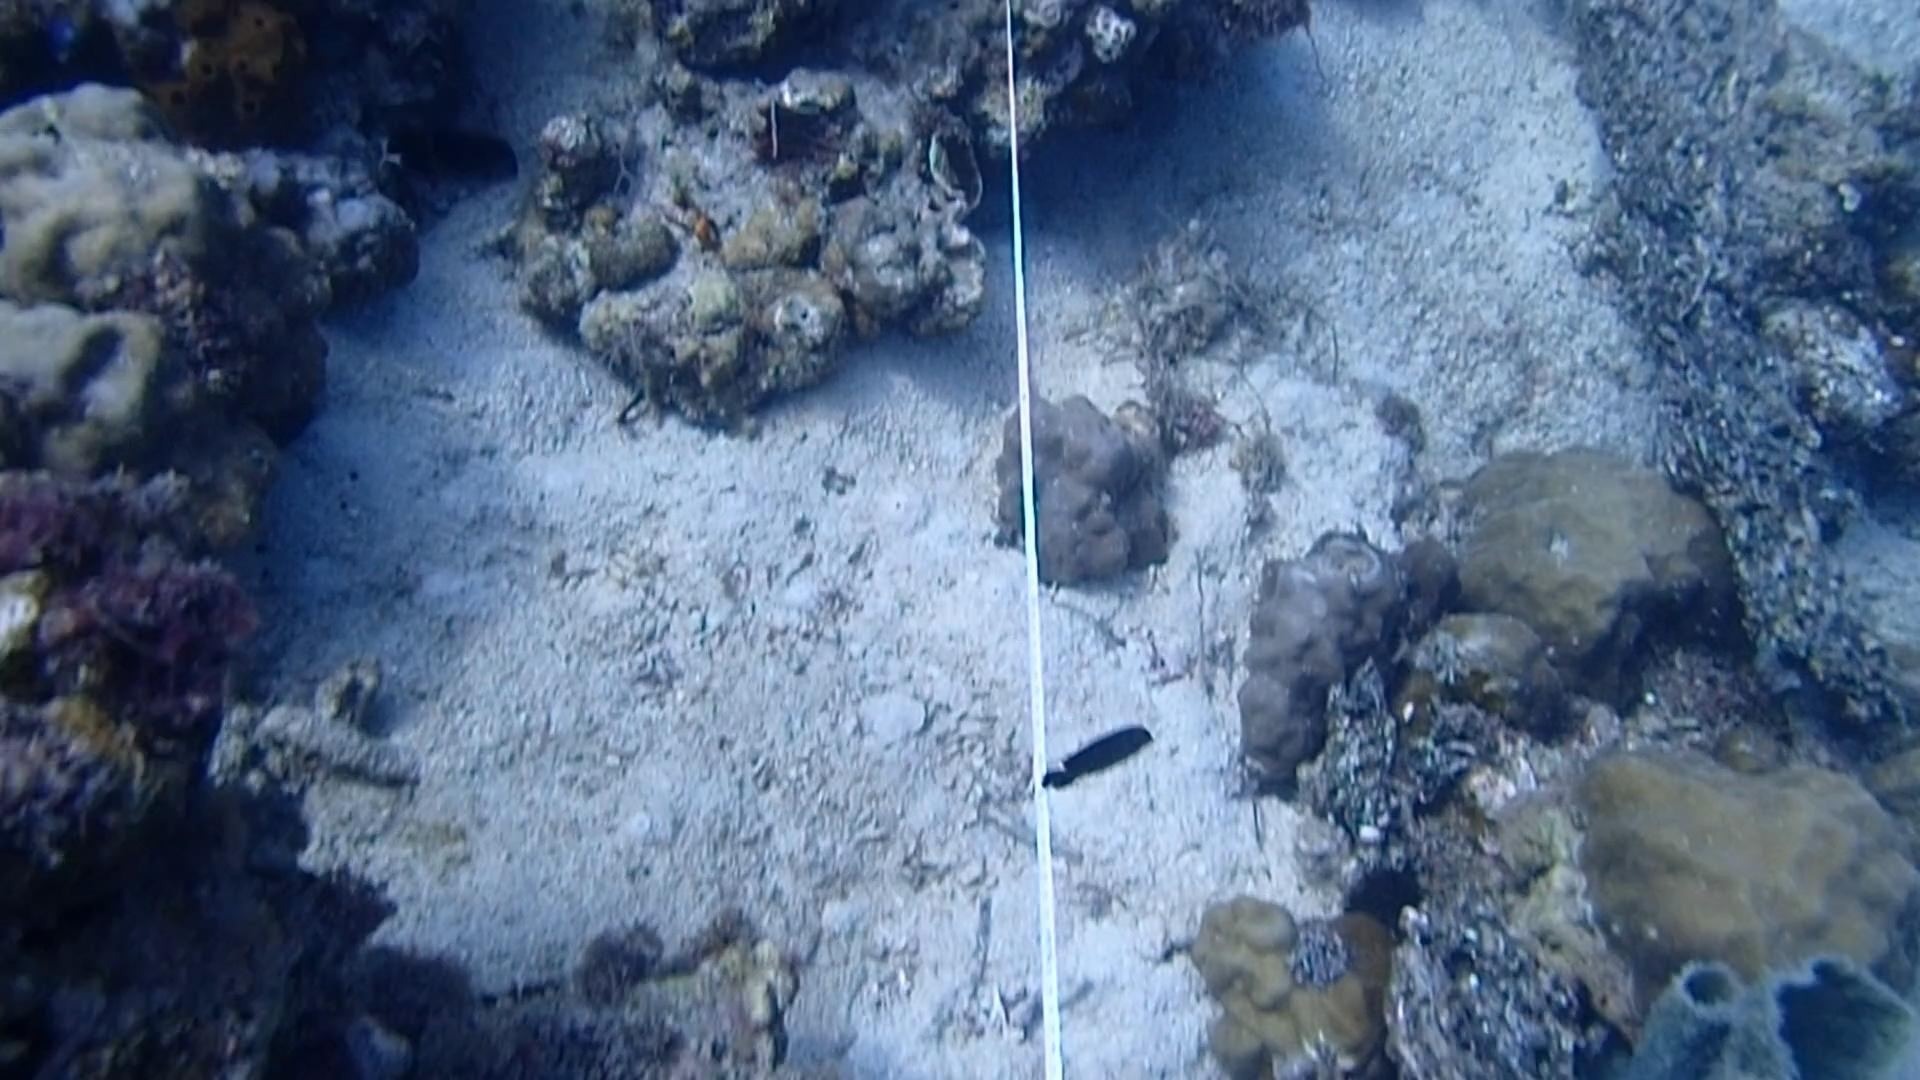Big Dark Blue Fish: (353, 103, 533, 198)
Dark Fish: (1030, 713, 1158, 800)
